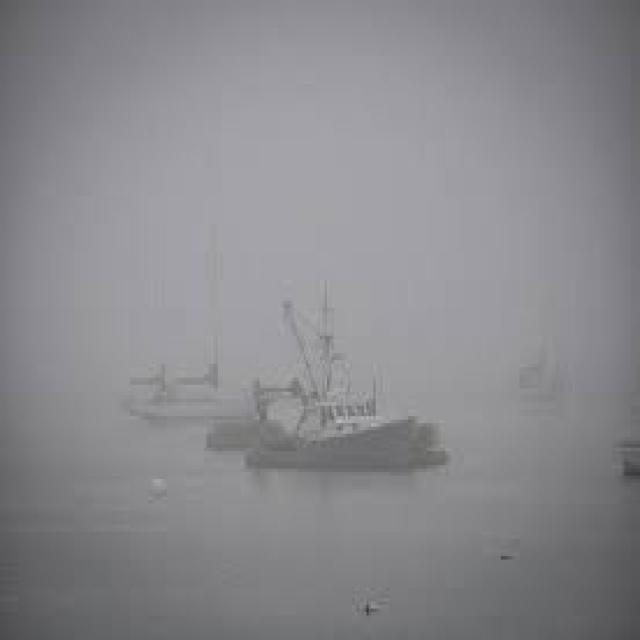cargoship: (229, 336, 438, 481)
